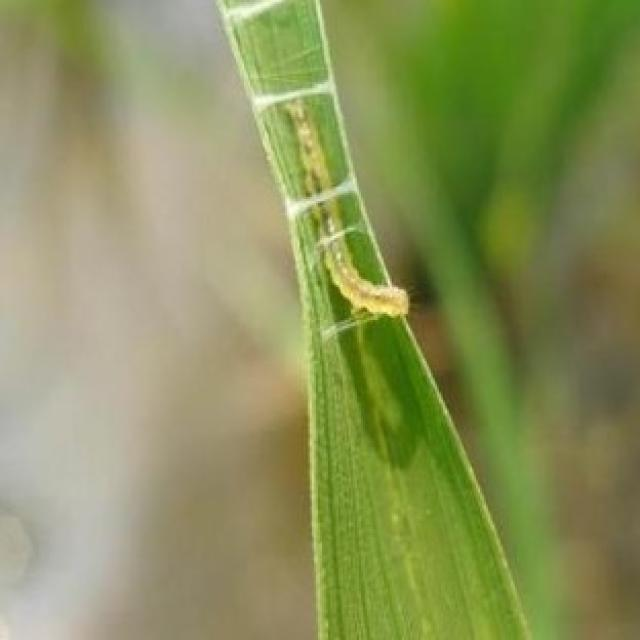rice leaf roller: (283, 101, 406, 314)
